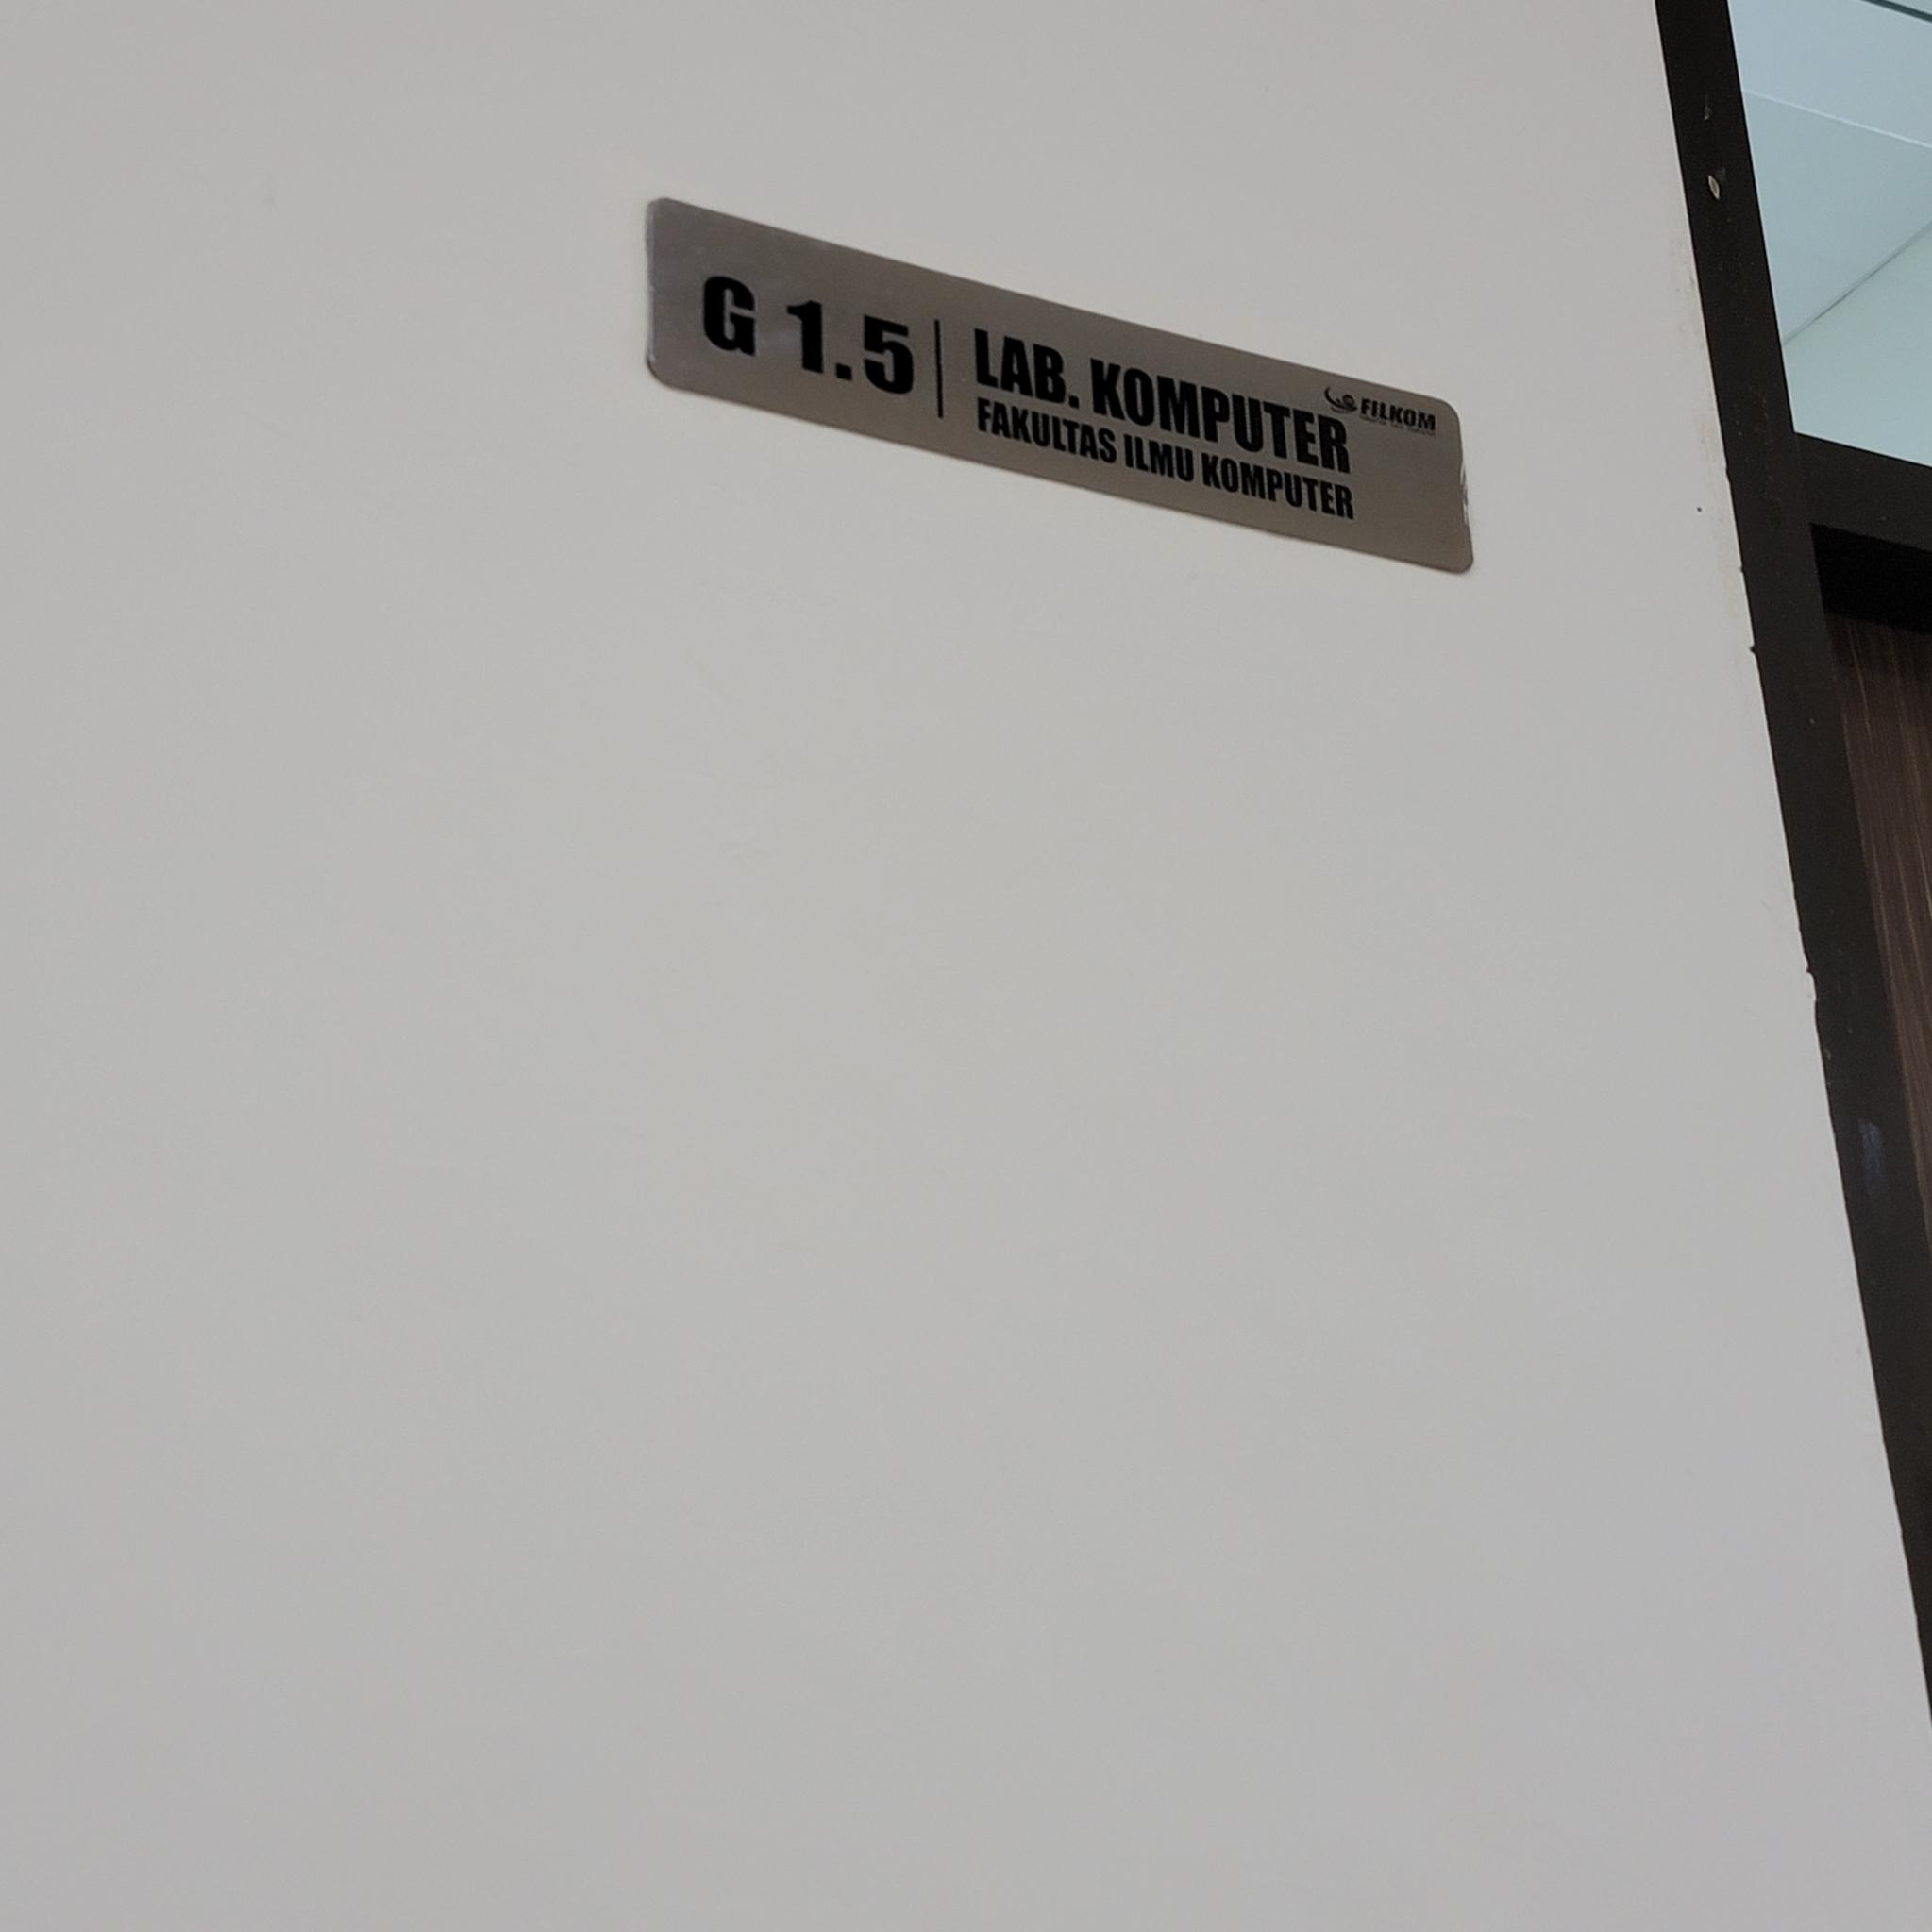plate: (649, 193, 1474, 580)
